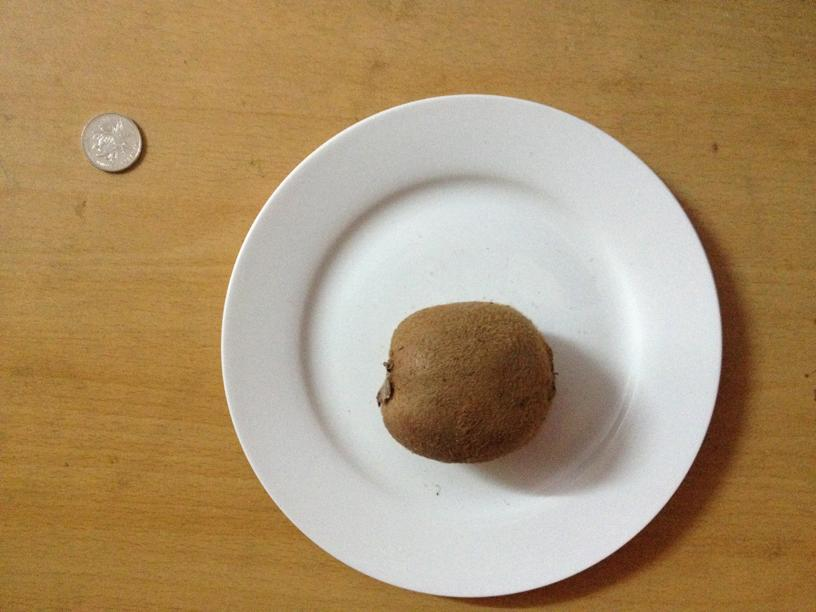coin: (80, 114, 144, 173)
qiwi: (375, 301, 554, 462)
